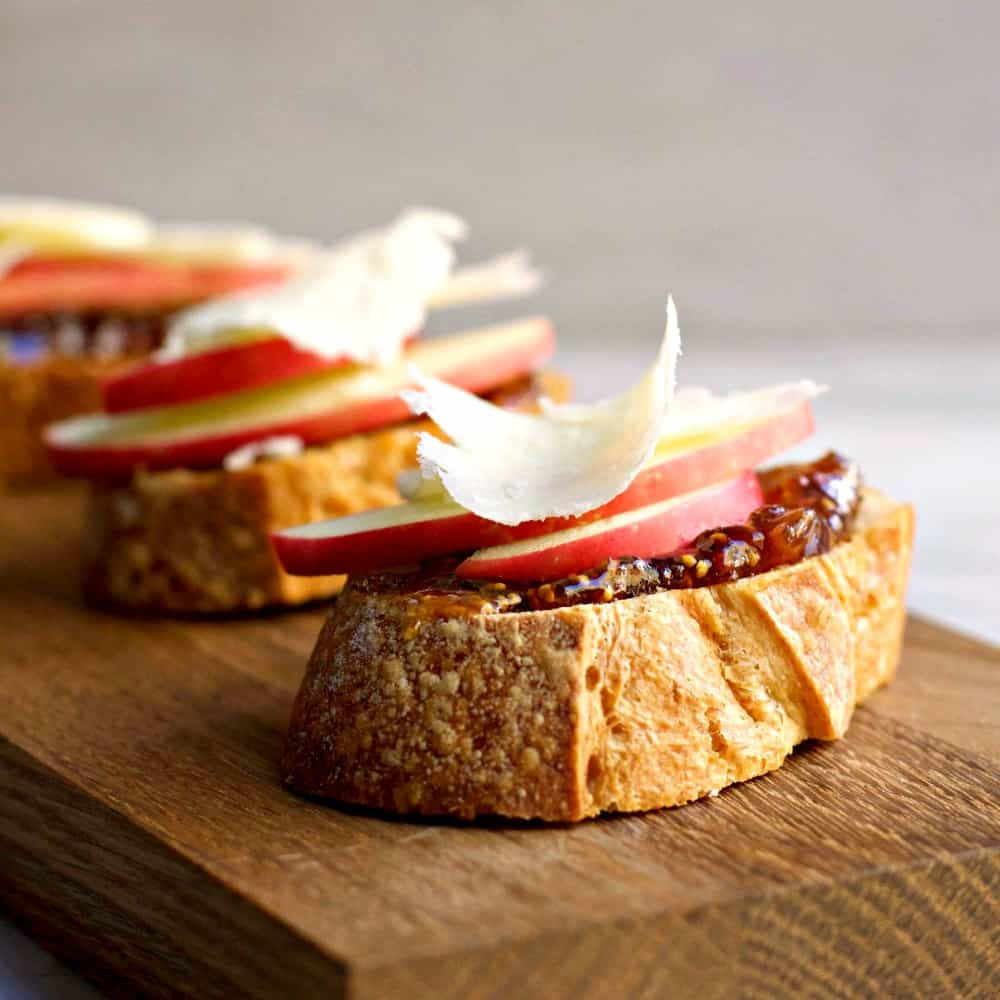slice of bread: (322, 602, 907, 780)
